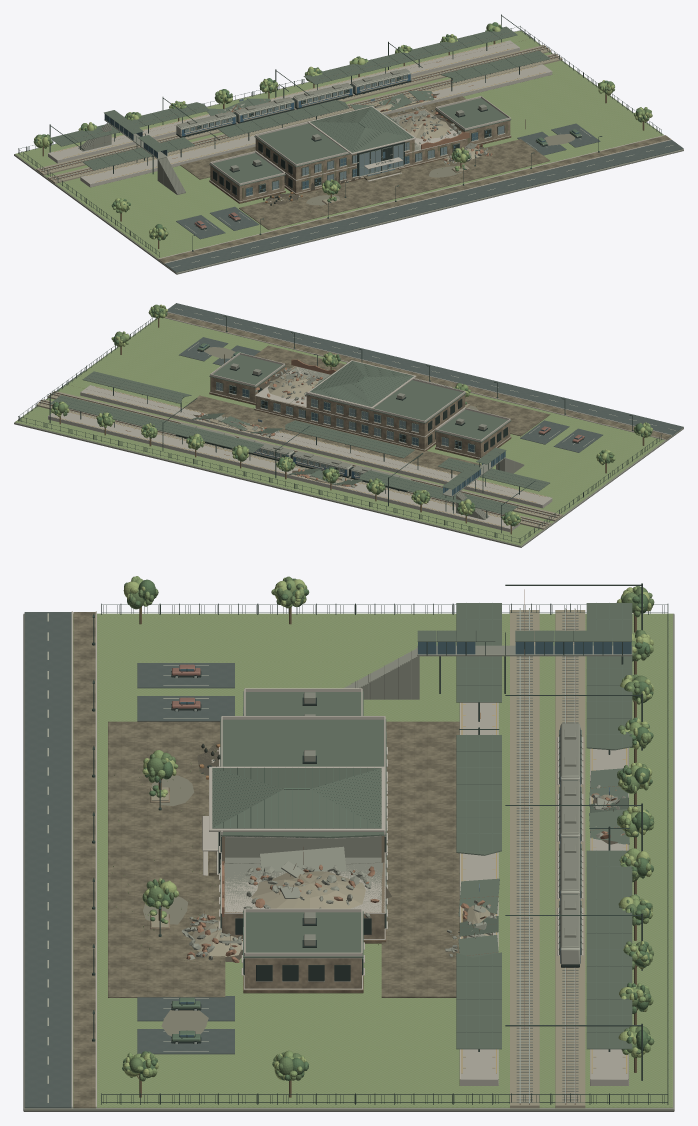
Rendered from railway-abandoned.glb.
3 renders of one model, top to bottom at view 1: azimuth 30°, elevation 25°; view 2: azimuth 150°, elevation 25°; view 3: azimuth 270°, elevation 25°, orthographic. The views are drawn at different scales.
Visible parts, largest first — view 1: 材质批次_grass, 材质批次_sage_metal_roof, 材质批次_plaza_paving, 材质批次_asphalt, 材质批次_railway_platform, 材质批次_poi_service_concrete, 材质批次_warm_cream_trim, 材质批次_planter_gravel, 材质批次_limestone, 材质批次_recess_shadow, 材质批次_street_metal, 材质批次_window_frames (+16 smaller); view 2: 材质批次_grass, 材质批次_sage_metal_roof, 材质批次_railway_platform, 材质批次_asphalt, 材质批次_plaza_paving, 材质批次_warm_cream_trim, 材质批次_poi_service_concrete, 材质批次_limestone, 材质批次_planter_gravel, 材质批次_street_metal, 材质批次_recess_shadow, 材质批次_railway_tactile (+13 smaller); view 3: 材质批次_grass, 材质批次_sage_metal_roof, 材质批次_plaza_paving, 材质批次_asphalt, 材质批次_poi_service_concrete, 材质批次_planter_gravel, 材质批次_warm_cream_trim, 材质批次_street_metal, 材质批次_railway_platform, 材质批次_leaf_1, 材质批次_standing_seam, 材质批次_limestone (+12 smaller).
Part boxes in pixels (x1,y1,x2,y2): 材质批次_grass: [15, 30, 663, 258]; 材质批次_sage_metal_roof: [50, 26, 549, 186]; 材质批次_plaza_paving: [158, 96, 670, 263]; 材质批次_asphalt: [165, 123, 683, 272]; 材质批次_railway_platform: [48, 40, 552, 187]; 材质批次_poi_service_concrete: [14, 30, 683, 274]; 材质批次_warm_cream_trim: [48, 40, 671, 263]; 材质批次_planter_gravel: [36, 45, 562, 203]; 材质批次_limestone: [210, 109, 510, 204]; 材质批次_recess_shadow: [176, 74, 581, 229]; 材质批次_street_metal: [18, 14, 661, 257]; 材质批次_window_frames: [184, 75, 504, 196]; 材质批次_grass: [15, 317, 664, 545]; 材质批次_sage_metal_roof: [50, 354, 549, 514]; 材质批次_railway_platform: [48, 385, 552, 531]; 材质批次_asphalt: [167, 303, 683, 452]; 材质批次_plaza_paving: [165, 312, 671, 474]; 材质批次_warm_cream_trim: [48, 312, 671, 528]; 材质批次_poi_service_concrete: [14, 319, 683, 547]; 材质批次_limestone: [210, 366, 510, 457]; 材质批次_planter_gravel: [36, 369, 562, 529]; 材质批次_street_metal: [18, 315, 661, 543]; 材质批次_recess_shadow: [176, 346, 584, 492]; 材质批次_railway_tactile: [54, 386, 545, 526]; 材质批次_grass: [73, 613, 672, 1107]; 材质批次_sage_metal_roof: [212, 603, 632, 1049]; 材质批次_plaza_paving: [73, 612, 459, 1108]; 材质批次_asphalt: [24, 612, 234, 1108]; 材质批次_poi_service_concrete: [23, 612, 674, 1111]; 材质批次_planter_gravel: [151, 610, 613, 1108]; 材质批次_warm_cream_trim: [71, 611, 628, 1107]; 材质批次_street_metal: [92, 583, 668, 1104]; 材质批次_railway_platform: [459, 702, 628, 1085]; 材质批次_leaf_1: [113, 576, 654, 1081]; 材质批次_standing_seam: [212, 603, 622, 1047]; 材质批次_limestone: [150, 787, 384, 988].
Size of the model in its own units: 180 by 12.97 by 100.
Materials: 38 (5 with a texture image).
